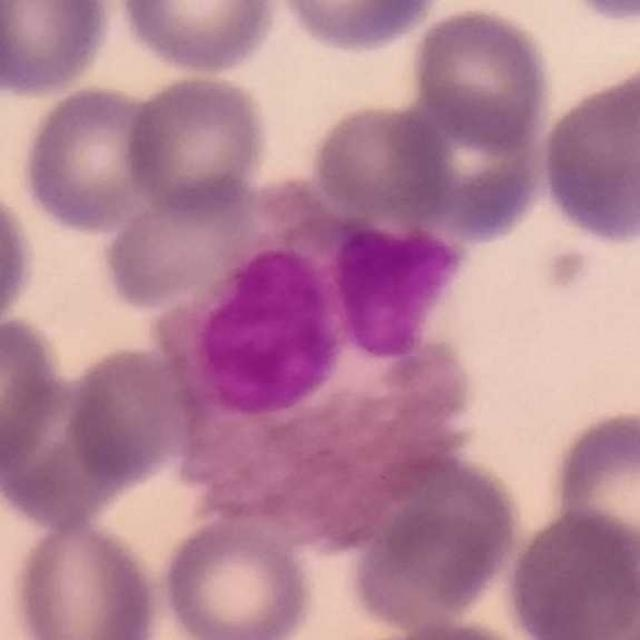Eosinophil: (161, 178, 469, 538)
Platelets: (567, 0, 640, 26)
RBC: (353, 467, 523, 632), (383, 85, 549, 242), (120, 70, 274, 222), (95, 175, 262, 314), (18, 81, 165, 236), (408, 2, 556, 154), (156, 510, 319, 640), (60, 340, 192, 491), (5, 515, 164, 640), (536, 60, 640, 248), (307, 99, 454, 229), (502, 504, 640, 640), (545, 405, 640, 583), (112, 0, 284, 78), (0, 312, 71, 479), (0, 0, 118, 99), (272, 0, 446, 56), (0, 177, 39, 339), (344, 614, 549, 640), (552, 0, 640, 28), (590, 591, 640, 640)
